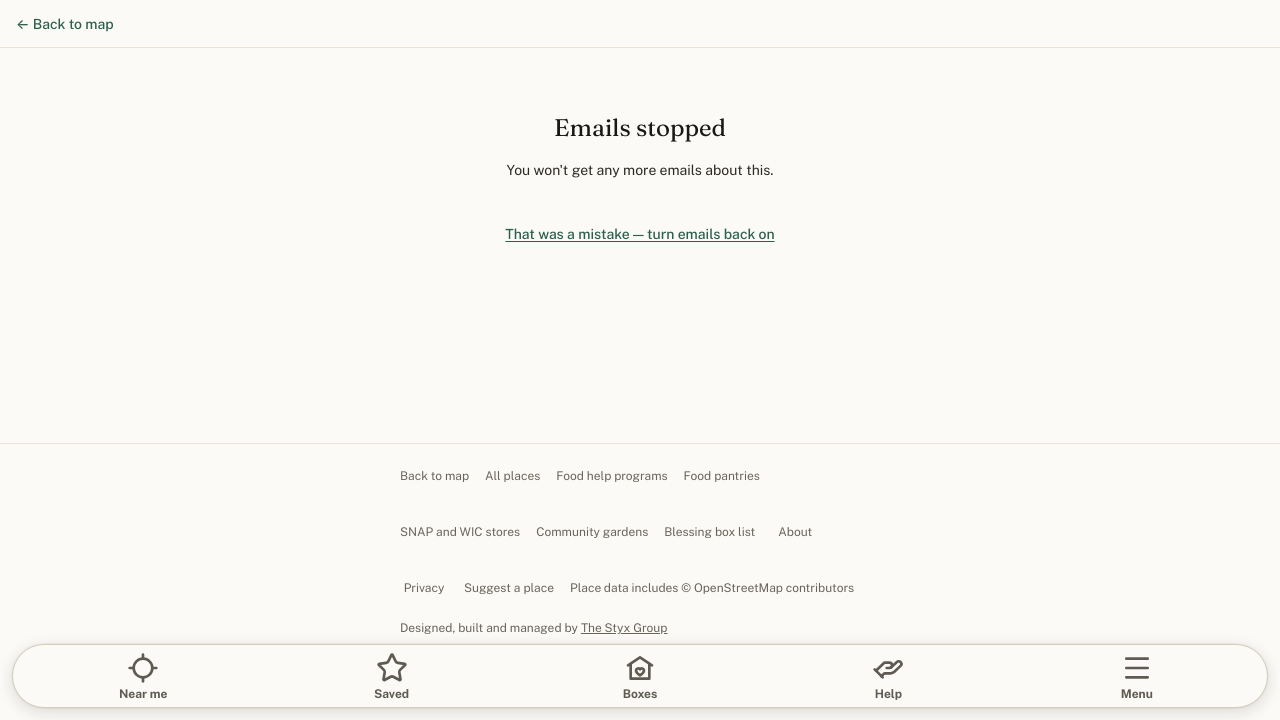
it: AlertsStopContent › undo failure shows the undo-error message and keeps the button
Expected: the text "You won't get any more emails about this." is shown, [507,162,774,178]
Step 1. Click the button "That was a mistake — turn emails back on" → (640, 234), box [489,212,791,256]
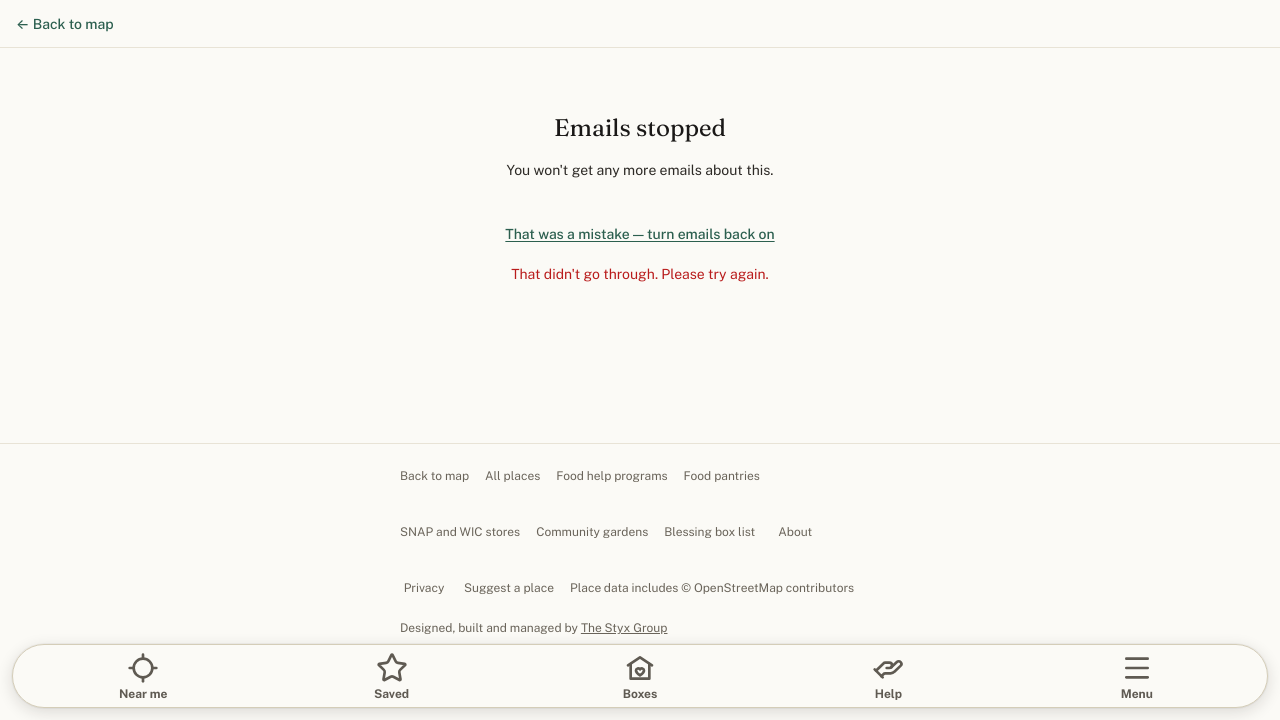
Result: the text "That didn't go through. Please try again." is shown at [511,266,769,282]
